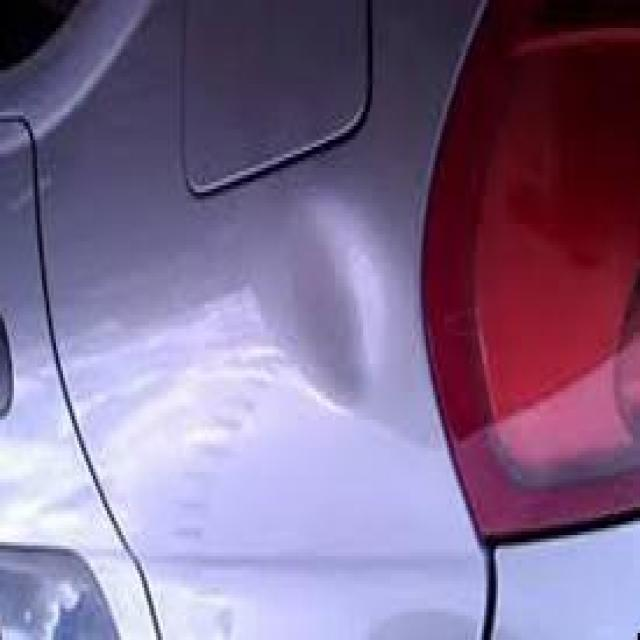dent: (222, 188, 388, 430)
